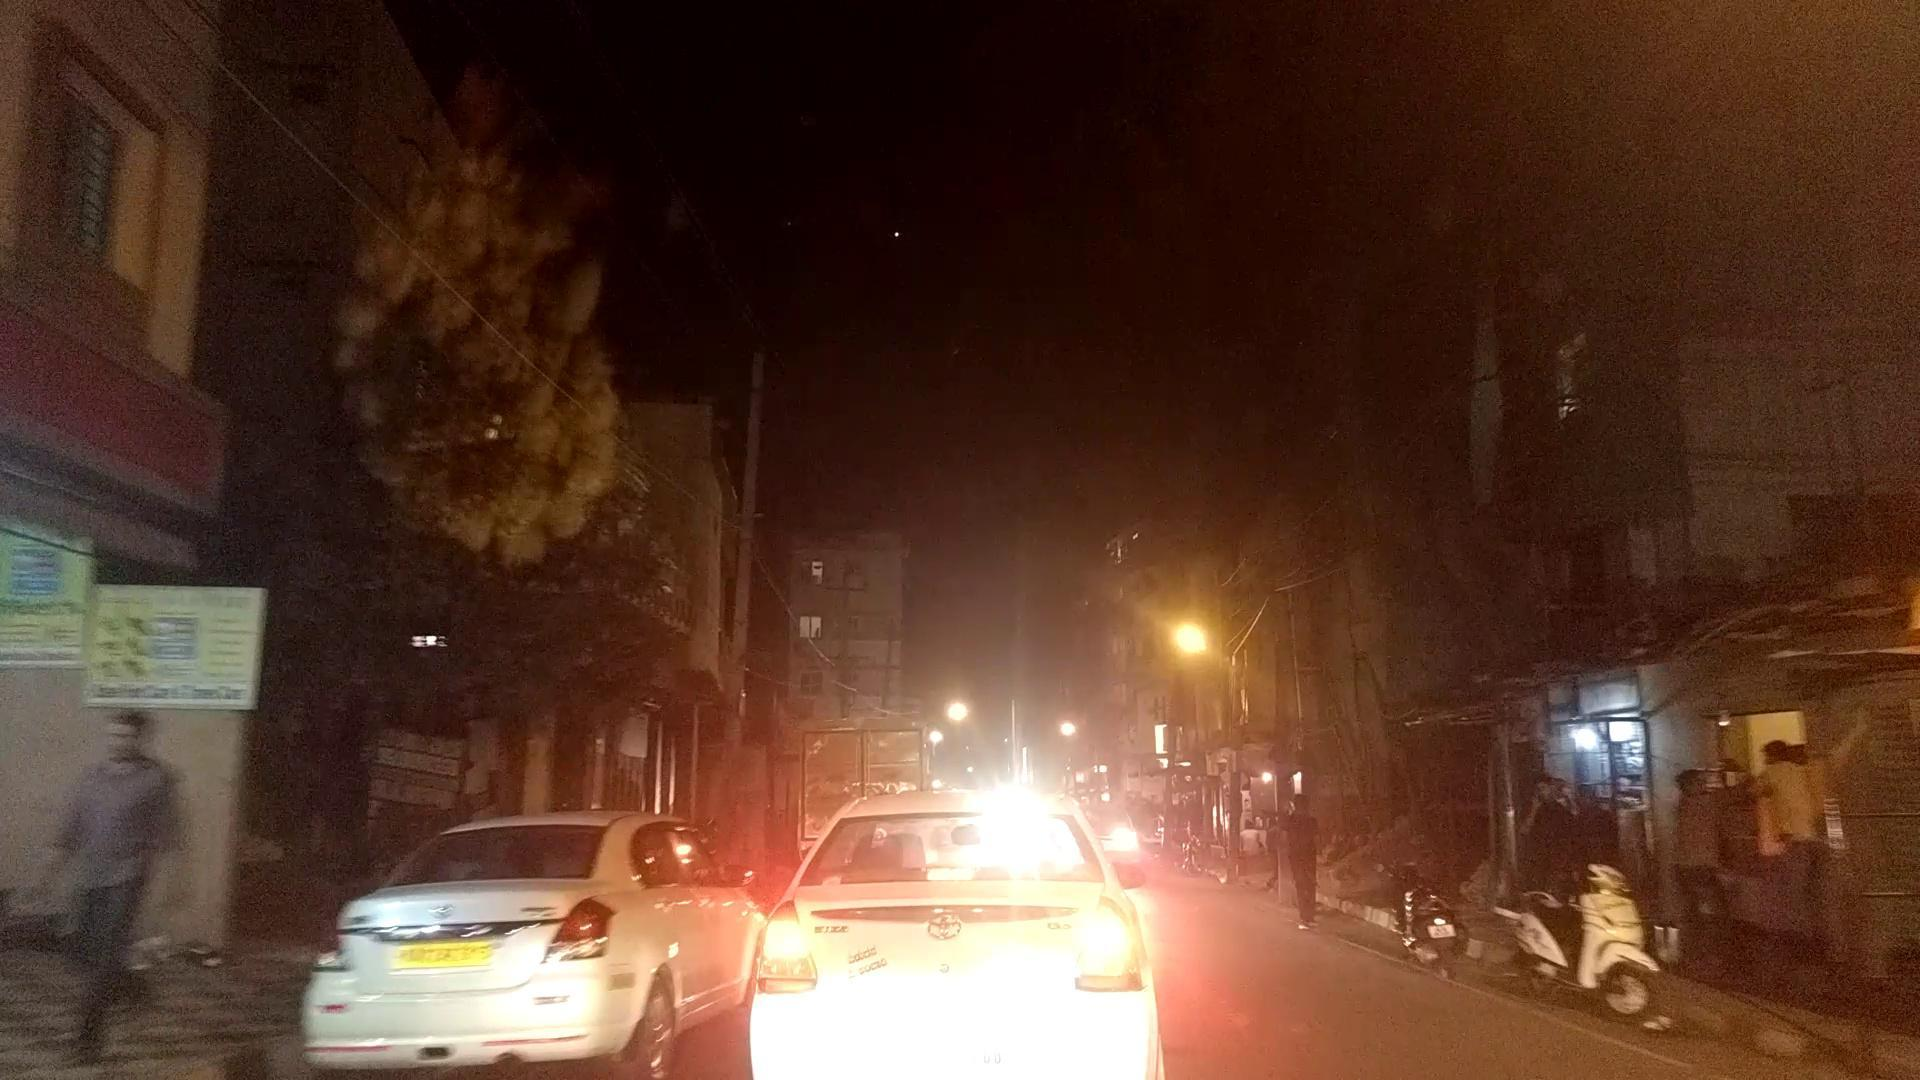on: (1080, 492, 1375, 787)
